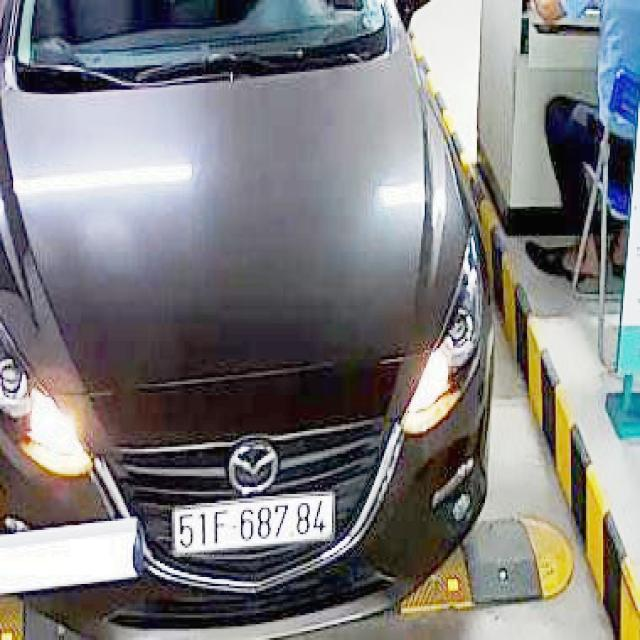license_plate: (174, 497, 335, 554)
